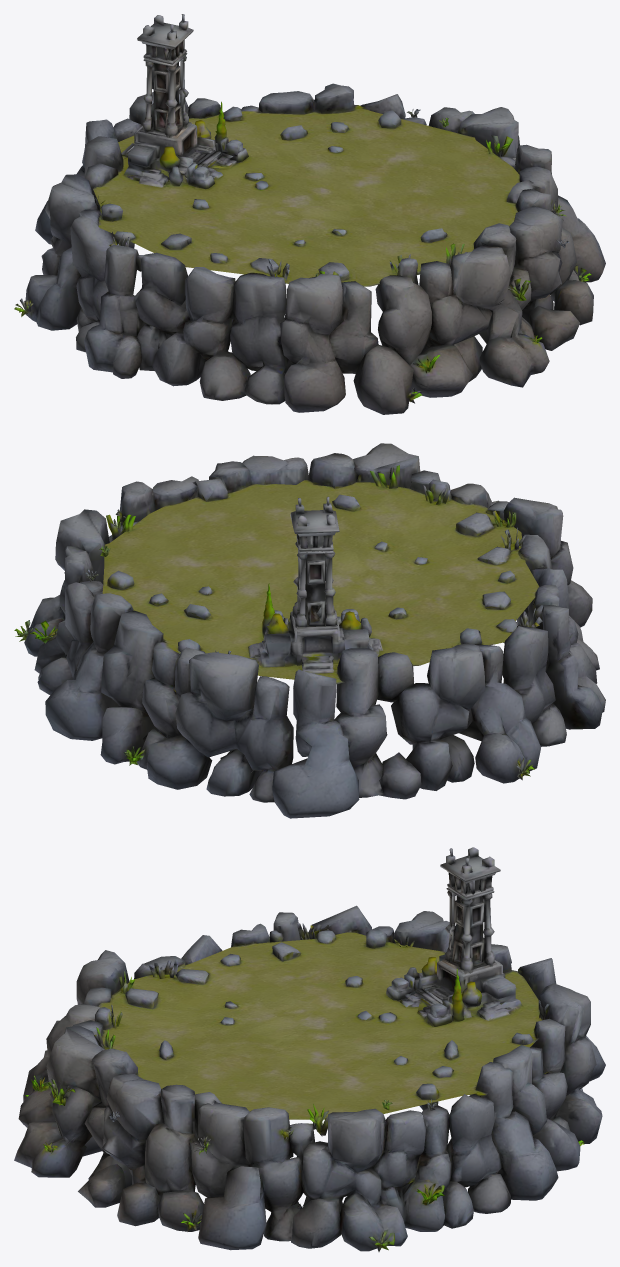
Rendered from VAL_Capital_Environment_Plateau_DragonTower.glb.
3 views of the same model, one above another, from view 1: azimuth 30°, elevation 25°; view 2: azimuth 150°, elevation 25°; view 3: azimuth 270°, elevation 25° (orthographic). The views are drawn at different scales.
Visible parts, largest first — view 1: tripo_node_ab36f620-dde6-454f-aff5-b1d8336c876d; view 2: tripo_node_ab36f620-dde6-454f-aff5-b1d8336c876d; view 3: tripo_node_ab36f620-dde6-454f-aff5-b1d8336c876d.
Part boxes in pixels (box(x1,y1,x2,y2)): tripo_node_ab36f620-dde6-454f-aff5-b1d8336c876d: box(14, 14, 605, 414); tripo_node_ab36f620-dde6-454f-aff5-b1d8336c876d: box(14, 443, 605, 818); tripo_node_ab36f620-dde6-454f-aff5-b1d8336c876d: box(14, 847, 605, 1251).
Size of the model in its own units: 0.998 by 0.459 by 0.998.
Materials: 1 (1 with a texture image).
